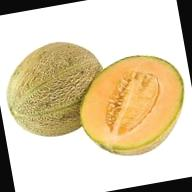Melon Ripe: (73, 49, 192, 163), (0, 35, 113, 144)
